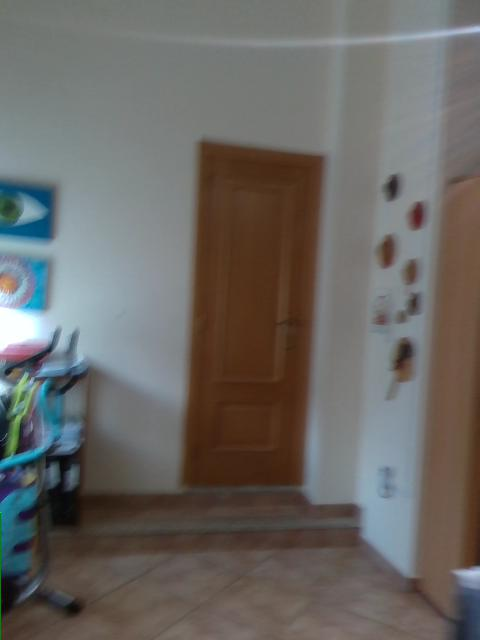door: (192, 160, 310, 481)
